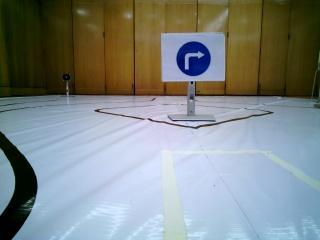right: (165, 32, 224, 82)
